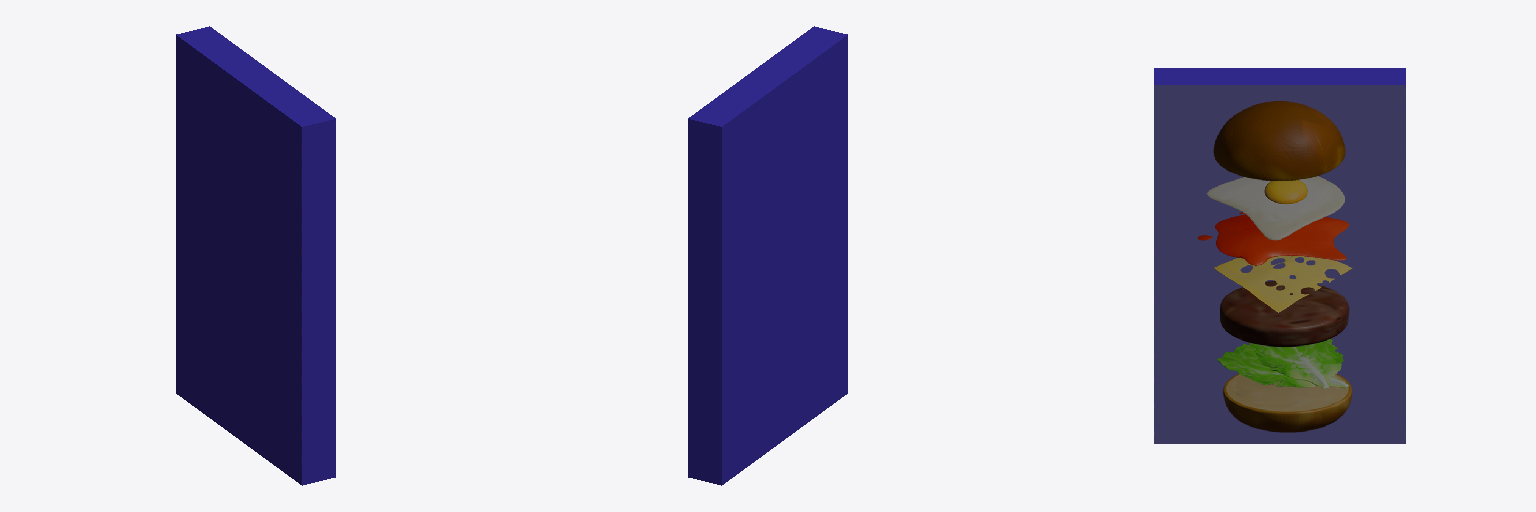
3 views of the same model, side by side, from view 1: azimuth 30°, elevation 25°; view 2: azimuth 150°, elevation 25°; view 3: azimuth 270°, elevation 25° (orthographic).
Parts seen in each view (by area): view 1: Cube; view 2: Cube; view 3: Cube.
Part boxes in pixels (left/top/right/bottom): Cube: left=176, top=26, right=335, bottom=485; Cube: left=688, top=26, right=847, bottom=485; Cube: left=1154, top=68, right=1405, bottom=443.
Bounding box in the file's own units: 0.313 × 3.14 × 2.
Materials: 1 (1 with a texture image).